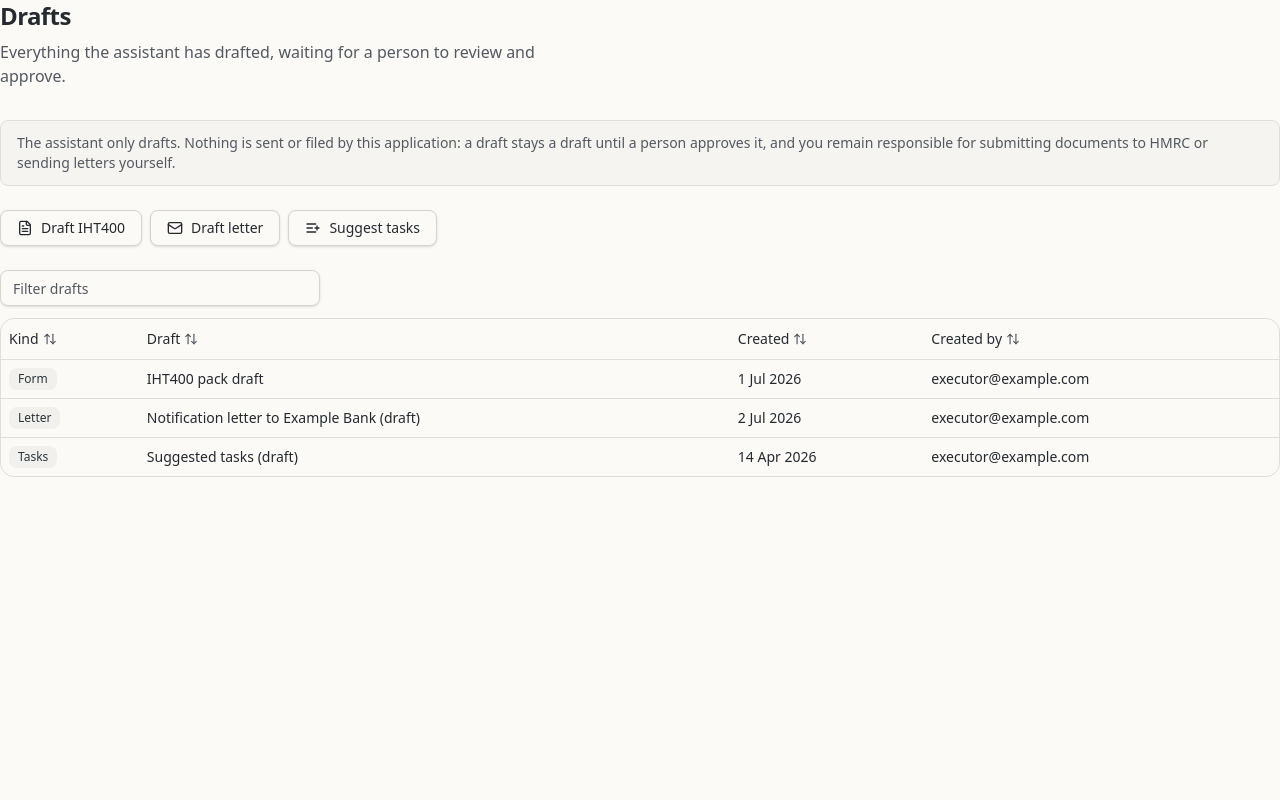
Test case: DraftsPage › renders a letter draft as formatted text with its references
Click the text "Notification letter to Example Bank (draft)" at (283, 417), box [139,398,730,437]
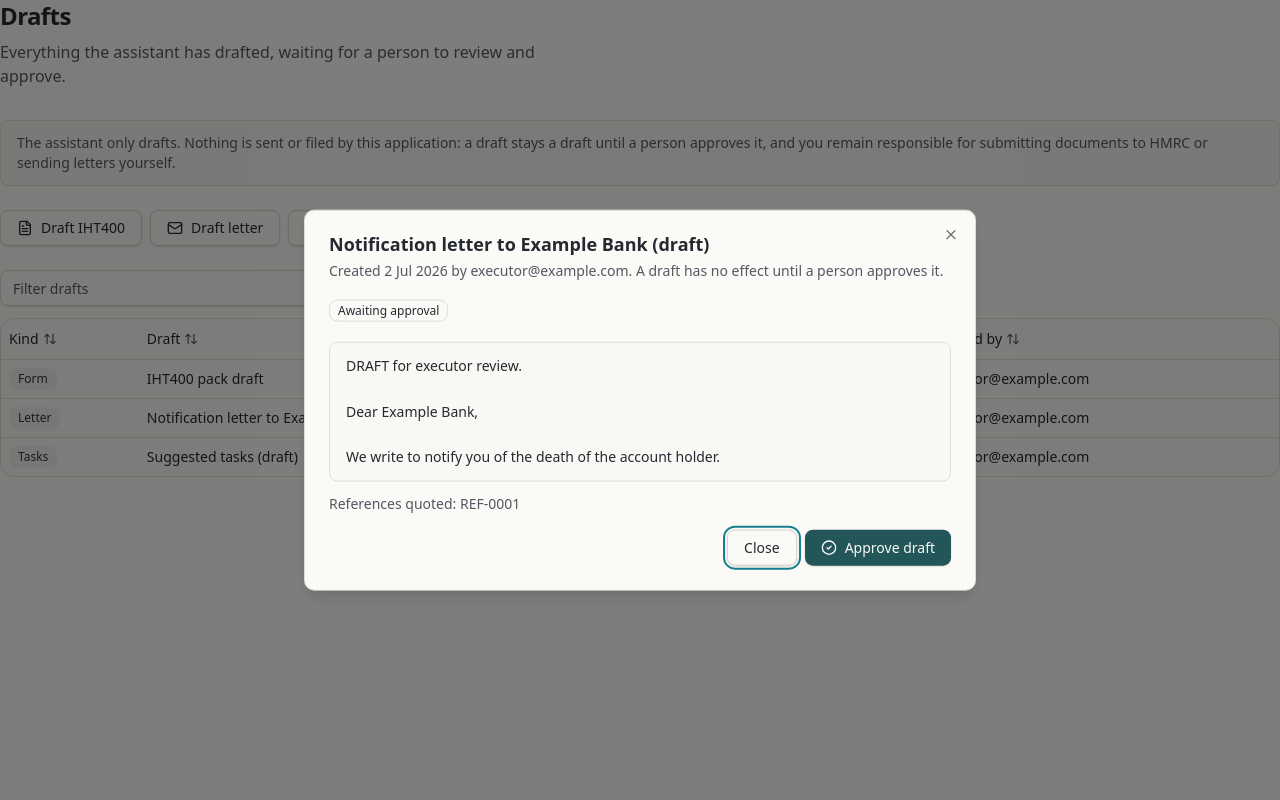
Check: the text "Dear Example Bank," is shown, box [346,356,720,466]
Check: the text "References quoted: REF-0001" is shown, box [329,493,520,512]
